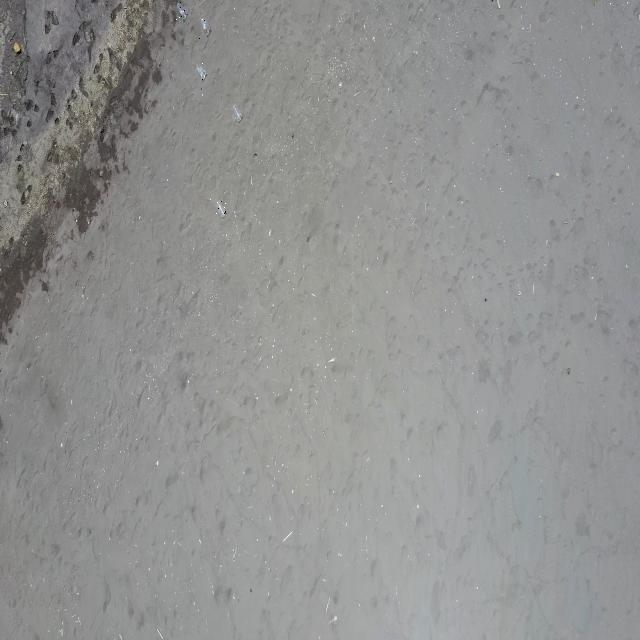takeaway-cup: (199, 17, 212, 39), (176, 2, 188, 22), (196, 63, 207, 82), (216, 199, 226, 218), (233, 104, 243, 121)
